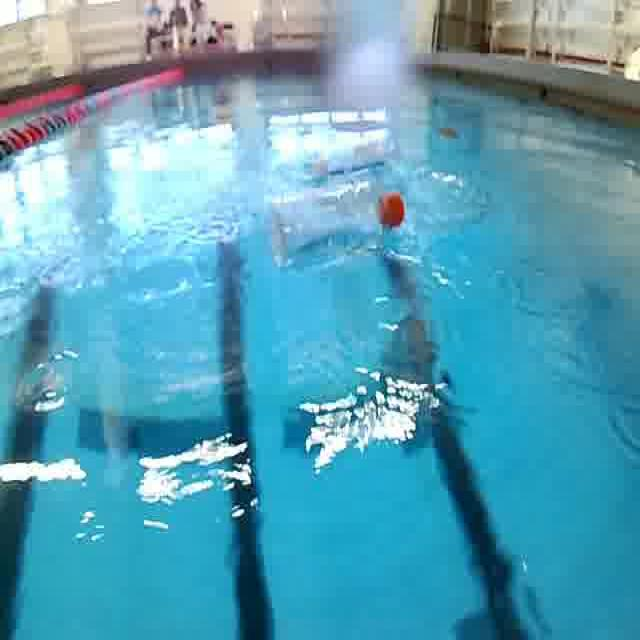Bottle: (261, 178, 414, 270)
